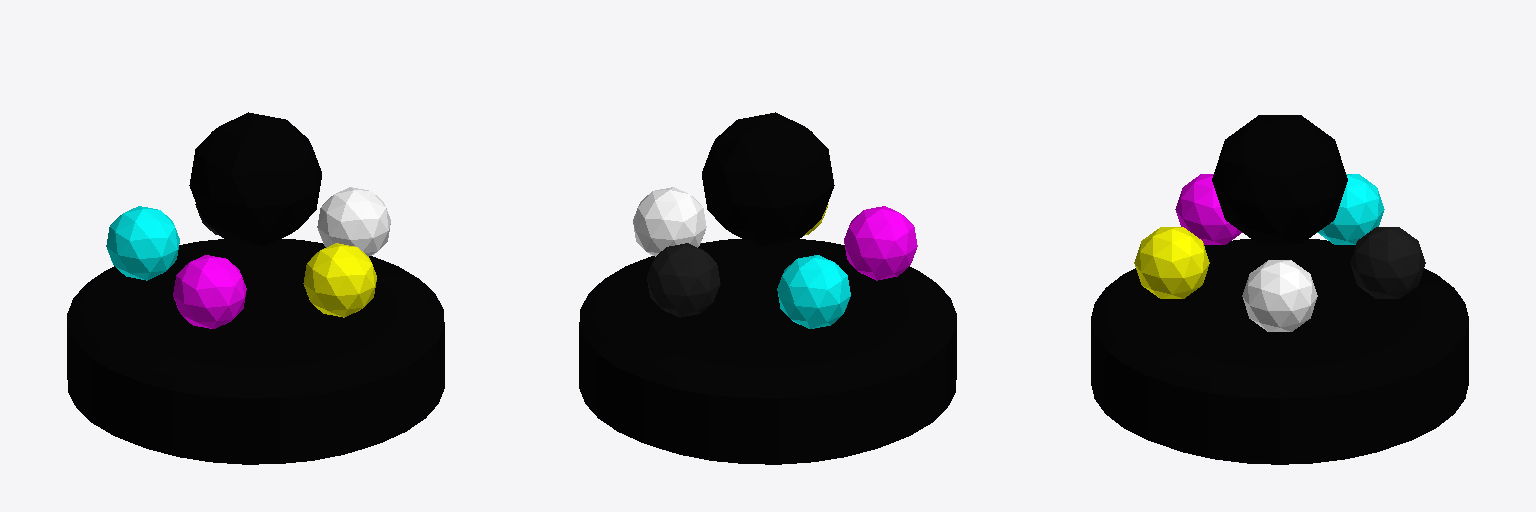
The model's file is lotto.obj.
3 renders of one model, left to right at view 1: azimuth 30°, elevation 25°; view 2: azimuth 150°, elevation 25°; view 3: azimuth 270°, elevation 25°, orthographic.
Visible parts, largest first — view 1: Cylinder, Icosphere, Icosphere.003, Icosphere.004, Icosphere.005, Icosphere.001; view 2: Cylinder, Icosphere, Icosphere.005, Icosphere.002, Icosphere.003, Icosphere.001; view 3: Cylinder, Icosphere, Icosphere.001, Icosphere.002, Icosphere.004, Icosphere.003, Icosphere.005.
Part boxes in pixels (x1,y1,x2,y2): Cylinder: (67, 239, 444, 464); Icosphere: (189, 112, 321, 246); Icosphere.003: (106, 206, 179, 280); Icosphere.004: (303, 243, 376, 317); Icosphere.005: (173, 255, 246, 328); Icosphere.001: (317, 187, 390, 256); Cylinder: (579, 239, 956, 464); Icosphere: (702, 112, 834, 246); Icosphere.005: (844, 206, 917, 280); Icosphere.002: (647, 243, 720, 317); Icosphere.003: (777, 255, 850, 328); Icosphere.001: (633, 187, 706, 256); Cylinder: (1091, 239, 1468, 464); Icosphere: (1212, 115, 1347, 243); Icosphere.001: (1242, 260, 1317, 331); Icosphere.002: (1350, 227, 1425, 298); Icosphere.004: (1134, 227, 1209, 298); Icosphere.003: (1317, 174, 1384, 244); Icosphere.005: (1175, 174, 1242, 244).
Size of the model in its own units: 2 by 1.61 by 2.